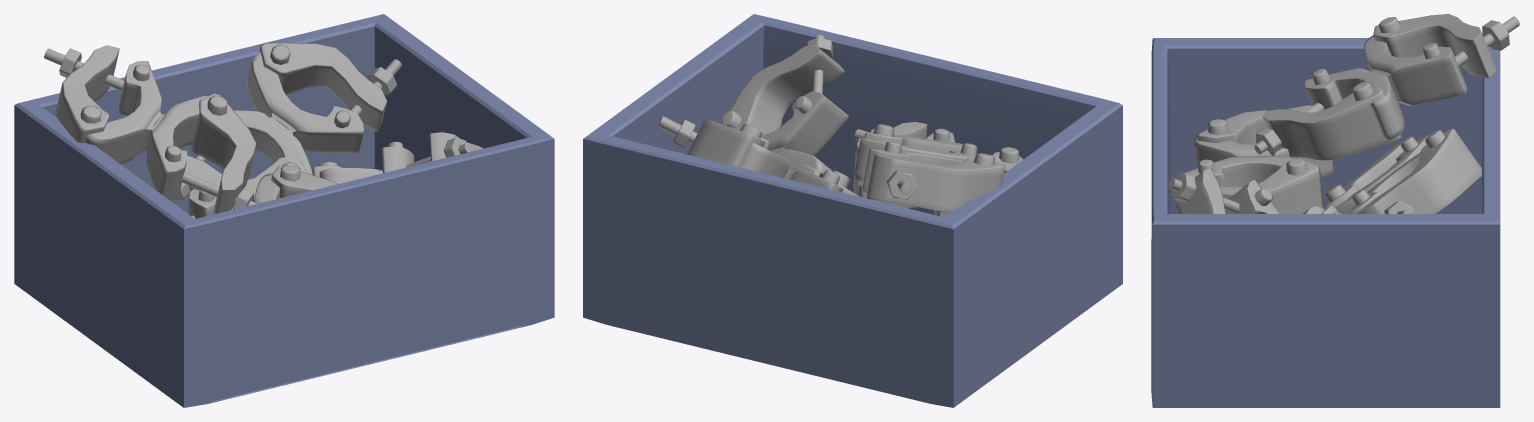
Rendered from crude_scaffJoints_box.fbx.
3 views of the same model, side by side, from view 1: azimuth 30°, elevation 25°; view 2: azimuth 150°, elevation 25°; view 3: azimuth 270°, elevation 25° (orthographic). The views are drawn at different scales.
Parts seen in each view (by area): view 1: box1, curve (×8), otherCurve (×6), screw, screwBolt; view 2: box1, otherCurve (×5), curve (×6), screwBolt; view 3: box1, otherCurve (×7), curve (×7), screwBolt (×3), screw.
Boxes of the visible parts, bbox=[...] form: box1: bbox=[14, 14, 554, 407]; curve (×8): bbox=[85, 52, 414, 218]; otherCurve (×6): bbox=[55, 42, 483, 214]; screw: bbox=[44, 48, 124, 91]; screwBolt: bbox=[366, 67, 397, 95]; box1: bbox=[583, 14, 1122, 407]; otherCurve (×5): bbox=[687, 44, 1005, 212]; curve (×6): bbox=[740, 91, 977, 192]; screwBolt: bbox=[886, 170, 916, 199]; box1: bbox=[1151, 38, 1500, 407]; otherCurve (×7): bbox=[1175, 14, 1496, 213]; curve (×7): bbox=[1182, 35, 1467, 213]; screwBolt (×3): bbox=[1169, 20, 1509, 201]; screw: bbox=[1455, 16, 1519, 66].
Size of the model in its own units: 35 by 20.44 by 29.37.
